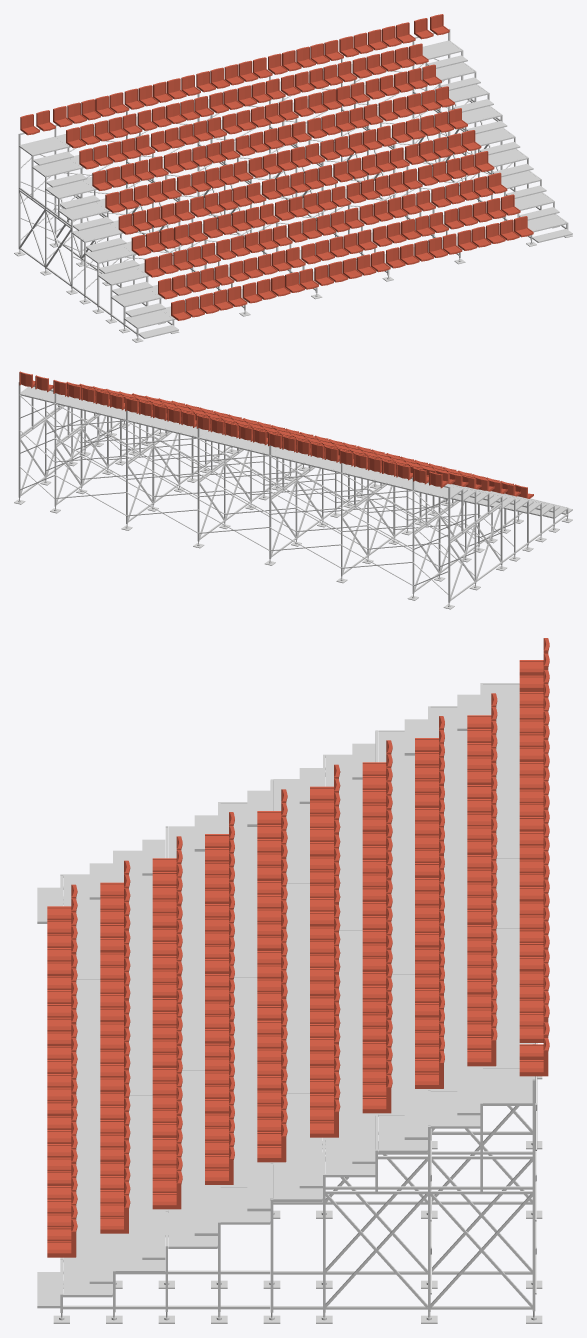
The model's file is Elevated bleacher.fbx.
3 views of the same model, one above another, from view 1: azimuth 30°, elevation 25°; view 2: azimuth 150°, elevation 25°; view 3: azimuth 270°, elevation 25° (orthographic). The views are drawn at different scales.
Visible parts, largest first — view 1: Cube.093, Cube, Cube.069, Cube.043, Cube.062, Cube.031, Cube.038, Cube.050, Cube.074; view 2: Cube.015, Cube.412, Cube.430, Cube.690, Cube.821, Cube.093, Cube.020, Cube.910, Cube.830, Cube.558, Cube.241, Cube.281 (+1 smaller); view 3: Cube.742, Cube.780, Cube.767, Cube.747, Cube.762, Cube.790, Cube.810, Cube.795, Cube.196, Cube.821, Cube.323, Cube.513 (+64 smaller).
Boxes of the visible parts, left/top/right/bottom form: Cube.093: left=21, top=137, right=67, bottom=154; Cube: left=34, top=158, right=80, bottom=175; Cube.069: left=86, top=245, right=132, bottom=261; Cube.043: left=112, top=288, right=158, bottom=305; Cube.062: left=73, top=224, right=119, bottom=240; Cube.031: left=47, top=180, right=93, bottom=197; Cube.038: left=60, top=202, right=106, bottom=218; Cube.050: left=99, top=267, right=145, bottom=283; Cube.074: left=126, top=310, right=171, bottom=326; Cube.015: left=343, top=465, right=421, bottom=488; Cube.412: left=271, top=448, right=350, bottom=471; Cube.430: left=128, top=413, right=207, bottom=436; Cube.690: left=200, top=430, right=278, bottom=453; Cube.821: left=57, top=396, right=135, bottom=419; Cube.093: left=415, top=483, right=460, bottom=497; Cube.020: left=448, top=486, right=450, bottom=602; Cube.910: left=18, top=382, right=20, bottom=497; Cube.830: left=21, top=387, right=64, bottom=401; Cube.558: left=197, top=428, right=199, bottom=541; Cube.241: left=412, top=478, right=414, bottom=593; Cube.281: left=269, top=445, right=271, bottom=558; Cube.742: left=63, top=1190, right=112, bottom=1258; Cube.780: left=273, top=1094, right=322, bottom=1163; Cube.767: left=220, top=1117, right=270, bottom=1186; Cube.747: left=116, top=1166, right=165, bottom=1236; Cube.762: left=168, top=1141, right=217, bottom=1210; Cube.790: left=325, top=1070, right=375, bottom=1138; Cube.810: left=430, top=1021, right=480, bottom=1090; Cube.795: left=378, top=1046, right=427, bottom=1114; Cube.196: left=76, top=910, right=100, bottom=979; Cube.821: left=483, top=998, right=532, bottom=1067; Cube.323: left=76, top=980, right=100, bottom=1048; Cube.513: left=76, top=1120, right=100, bottom=1188.
Size of what is drawn, in the model's own units: 1526 by 446 by 776.
